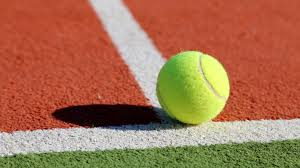aim: (156, 50, 230, 126)
